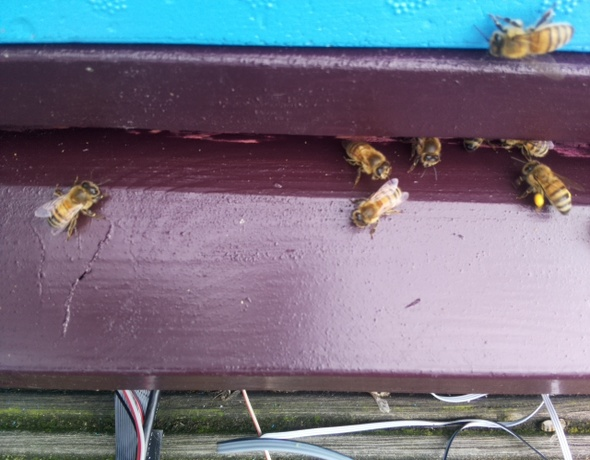no_pollen: (476, 11, 576, 63), (32, 175, 107, 239), (348, 178, 410, 236), (342, 139, 394, 192), (408, 134, 444, 184), (500, 132, 554, 163)
pollen: (510, 158, 574, 220)
